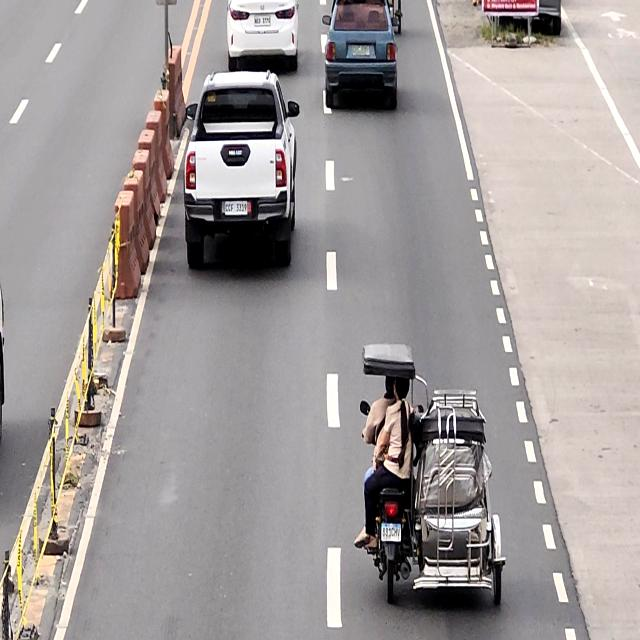Car: (181, 71, 301, 272), (323, 0, 397, 107), (227, 0, 298, 74)
License-Plate: (380, 524, 402, 544), (224, 200, 248, 218), (352, 44, 371, 56), (253, 14, 271, 26)
Tricycle: (361, 343, 507, 608)
